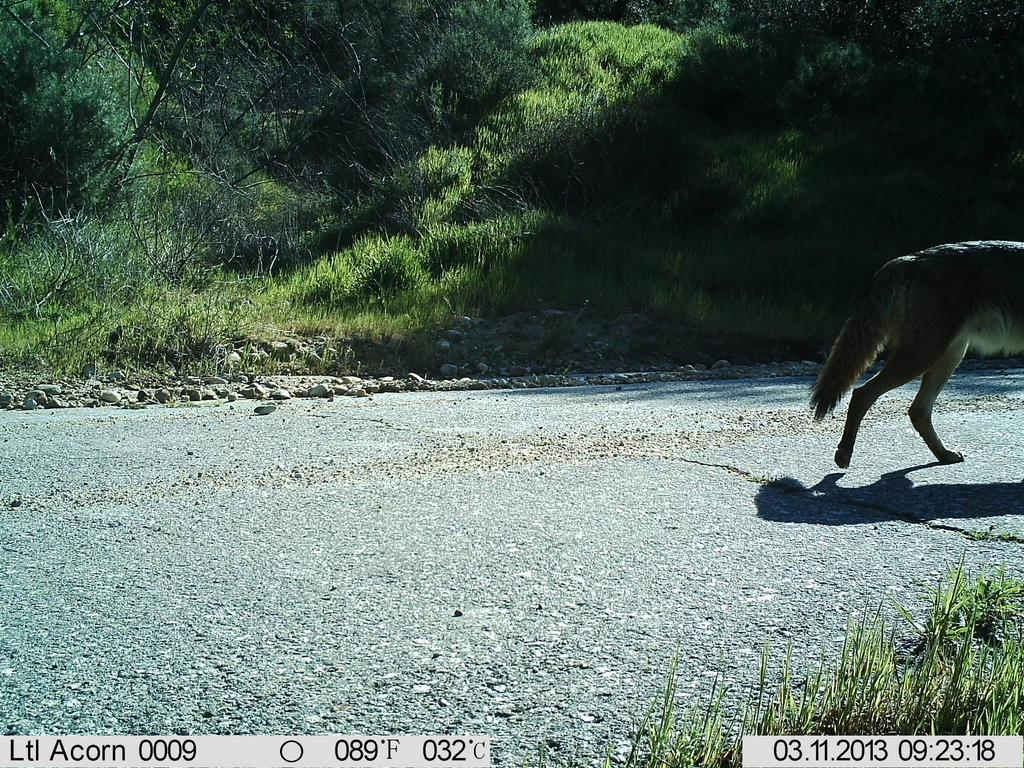coyote: (807, 236, 1022, 474)
